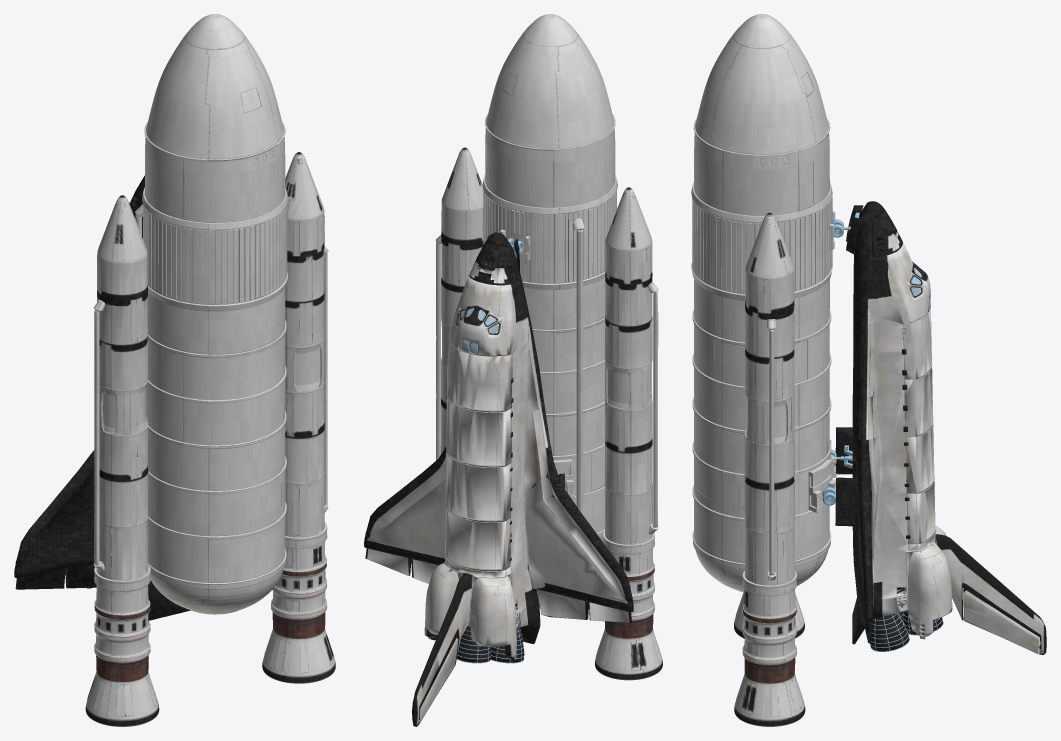
File: medium.glb
3 renders of one model, left to right at view 1: azimuth 30°, elevation 25°; view 2: azimuth 150°, elevation 25°; view 3: azimuth 270°, elevation 25°, orthographic. The views are drawn at different scales.
Visible parts, largest first — view 1: SM_Shuttle_Tank_M_Orig_Shuttle_Tank_0, SM_Shuttle_M_Orig_Shuttle_0; view 2: SM_Shuttle_Tank_M_Orig_Shuttle_Tank_0, SM_Shuttle_M_Orig_Shuttle_0, SM_Shuttle_M_Dummy_Metall_Shuttle_0; view 3: SM_Shuttle_Tank_M_Orig_Shuttle_Tank_0, SM_Shuttle_M_Orig_Shuttle_0, SM_Shuttle_M_Dummy_Metall_Shuttle_0.
Part boxes in pixels (x1=…): SM_Shuttle_Tank_M_Orig_Shuttle_Tank_0: x1=85, y1=14, x2=335, y2=726; SM_Shuttle_M_Orig_Shuttle_0: x1=14, y1=175, x2=190, y2=620; SM_Shuttle_Tank_M_Orig_Shuttle_Tank_0: x1=435, y1=14, x2=662, y2=680; SM_Shuttle_M_Orig_Shuttle_0: x1=364, y1=232, x2=633, y2=726; SM_Shuttle_M_Dummy_Metall_Shuttle_0: x1=456, y1=240, x2=524, y2=663; SM_Shuttle_Tank_M_Orig_Shuttle_Tank_0: x1=691, y1=14, x2=836, y2=726; SM_Shuttle_M_Orig_Shuttle_0: x1=835, y1=201, x2=1046, y2=654; SM_Shuttle_M_Dummy_Metall_Shuttle_0: x1=824, y1=212, x2=943, y2=651.
Bounding box in the file's own units: 24.64 × 54.99 × 27.04.
3 materials, 2 textured.
